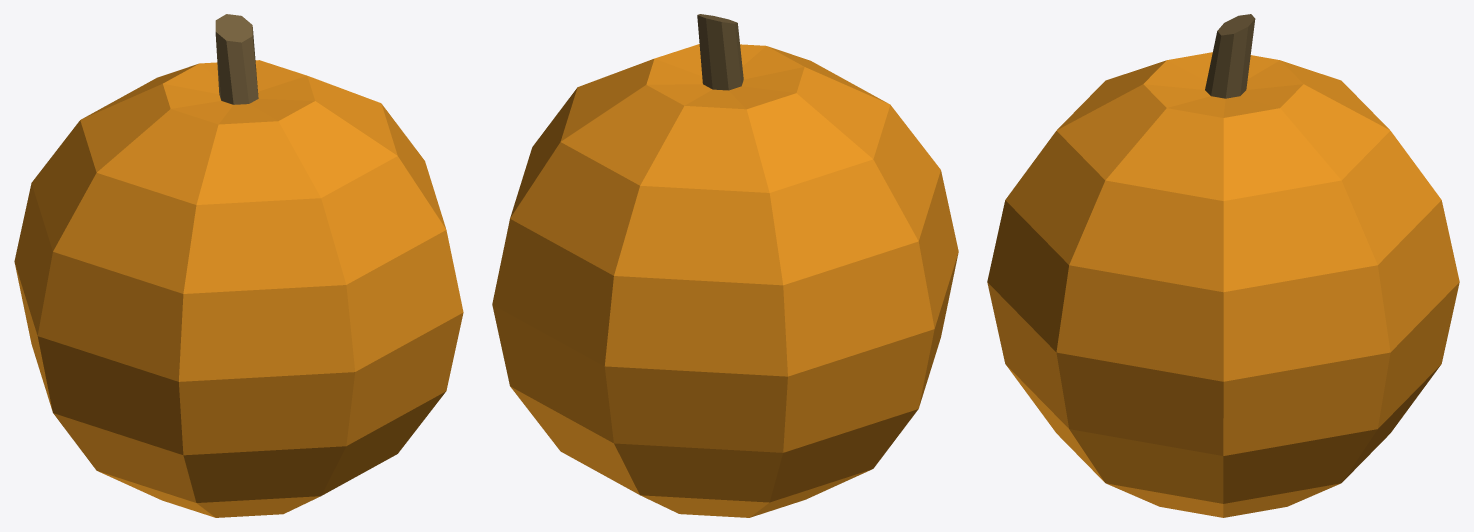
The model's file is orange.fbx.
3 renders of one model, left to right at view 1: azimuth 30°, elevation 25°; view 2: azimuth 150°, elevation 25°; view 3: azimuth 270°, elevation 25°, orthographic. The views are drawn at different scales.
Parts seen in each view (by area): view 1: orange; view 2: orange; view 3: orange.
Part boxes in pixels (x1,y1,x2,y2): orange: [14, 14, 463, 517]; orange: [492, 14, 958, 517]; orange: [987, 14, 1459, 517].
Size of the model in its own units: 160 by 179 by 160.
